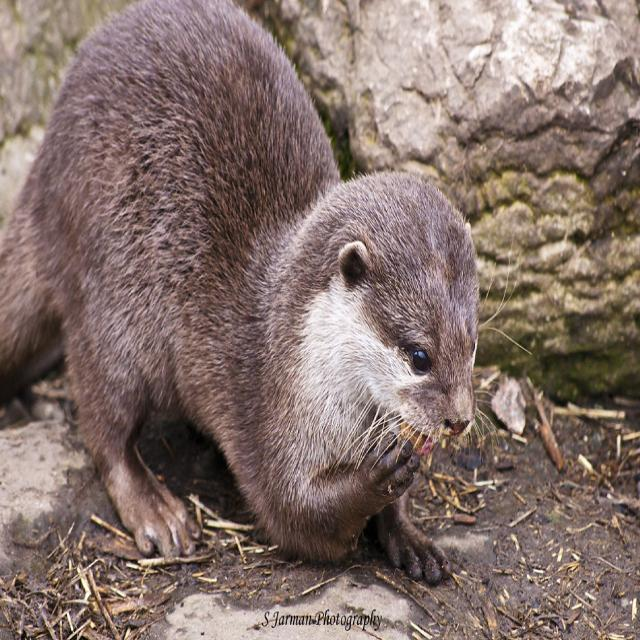otter: (3, 1, 480, 569)
